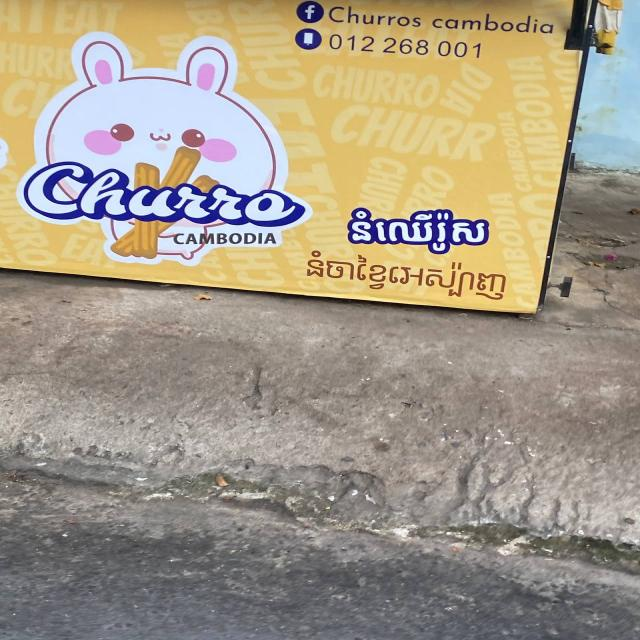247: (323, 24, 493, 66)
Yolov11_80vkh: (293, 244, 518, 304), (347, 204, 493, 258)
